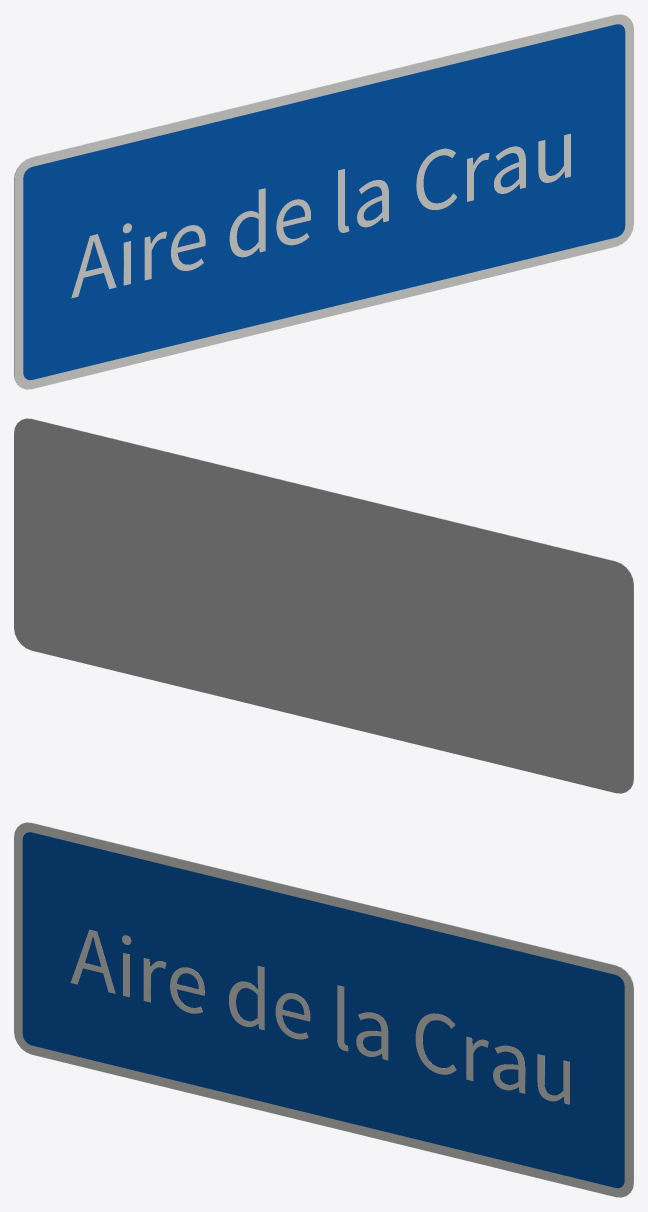
The picture shows the model from 3 angles, top to bottom: view 1: azimuth 30°, elevation 25°; view 2: azimuth 150°, elevation 25°; view 3: azimuth 330°, elevation 25°; orthographic projection.
Visible parts, largest first — view 1: E34a_fond01, E34a_cadre00, E34a_txt02, E34a_dos; view 2: E34a_dos; view 3: E34a_fond01, E34a_cadre00, E34a_txt02, E34a_dos.
Part boxes in pixels (x1,y1,x2,y2): E34a_fond01: [23, 24, 625, 380]; E34a_cadre00: [14, 14, 633, 389]; E34a_txt02: [71, 133, 570, 298]; E34a_dos: [14, 14, 622, 384]; E34a_dos: [14, 418, 633, 793]; E34a_fond01: [22, 832, 624, 1188]; E34a_cadre00: [14, 822, 633, 1197]; E34a_txt02: [70, 929, 569, 1104]; E34a_dos: [25, 822, 633, 1192].
Bounding box in the file's own units: 1.4 × 0.5 × 0.0025.
